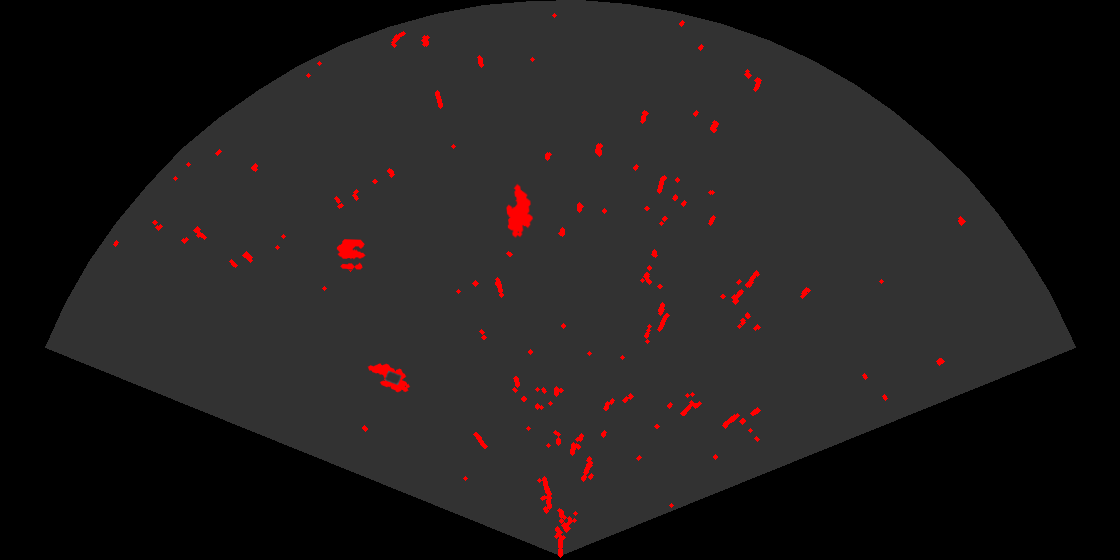AUV: (505, 182, 535, 240), (366, 362, 412, 394)
ball: (335, 237, 367, 271)
